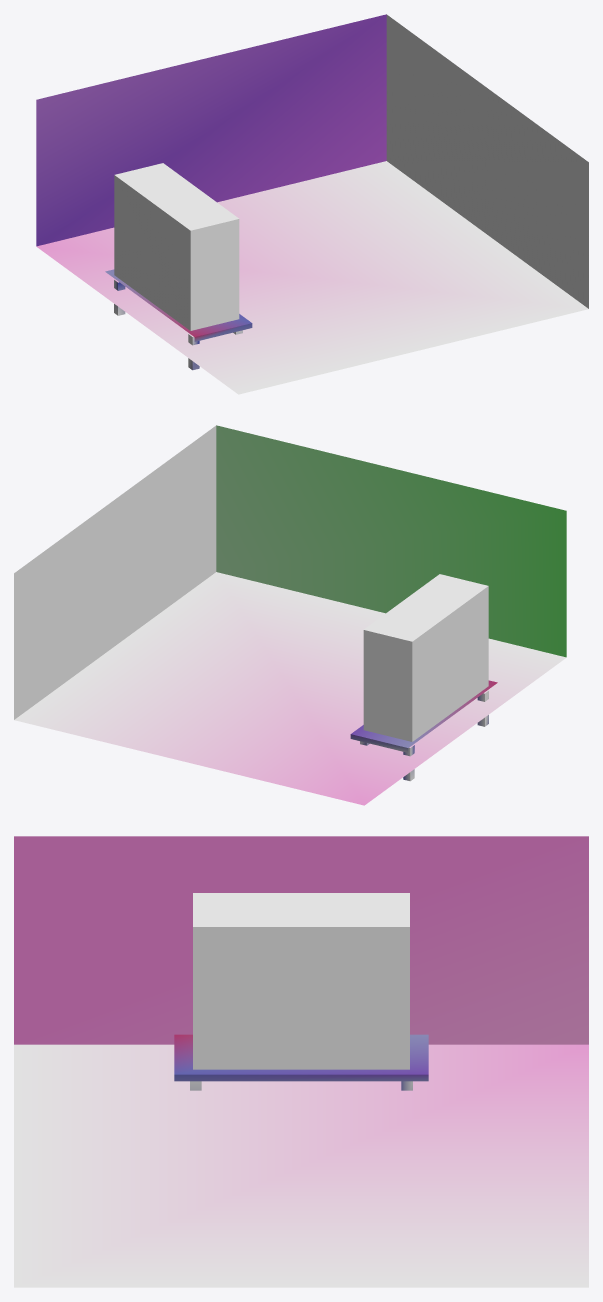
Rendered from room_05.glb.
The picture shows the model from 3 angles, top to bottom: view 1: azimuth 30°, elevation 25°; view 2: azimuth 150°, elevation 25°; view 3: azimuth 270°, elevation 25°; orthographic projection. The views are drawn at different scales.
Parts seen in each view (by area): view 1: room, tank; view 2: room, tank; view 3: room, tank.
Boxes of the visible parts, <box> form: room: <box>36,14,588,394</box>; tank: <box>114,163,239,330</box>; room: <box>14,425,566,805</box>; tank: <box>363,574,488,741</box>; room: <box>14,836,588,1287</box>; tank: <box>193,893,409,1069</box>.
Size of the model in its own units: 1.08 by 0.468 by 1.
